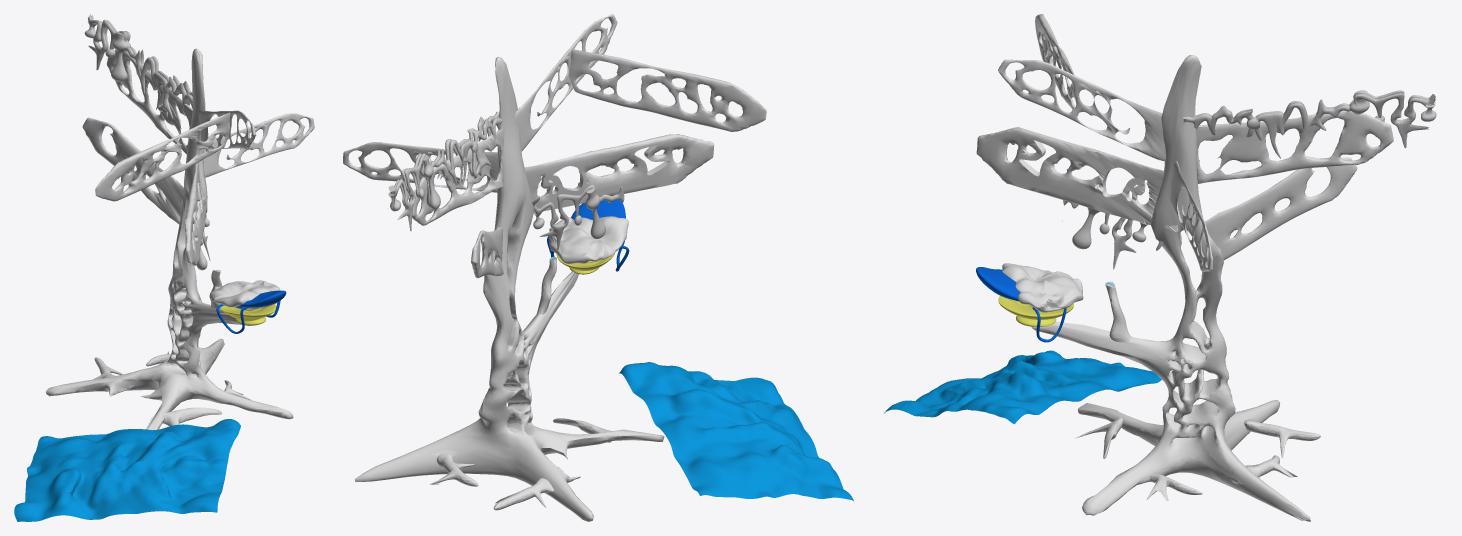
The model's file is nomad-installation-6.glb.
3 renders of one model, left to right at view 1: azimuth 30°, elevation 25°; view 2: azimuth 150°, elevation 25°; view 3: azimuth 270°, elevation 25°, orthographic. The views are drawn at different scales.
Parts seen in each view (by area): view 1: Plane, Cylinder, Box_1, Box_3, Tube_2, Box_4, Box_5, Box_2, Sphere_1, Box, Tube, Lathe (+1 smaller); view 2: Cylinder, Plane, Box_2, Box_1, Box_4, Tube_2, Sphere_1, Box, Box_5, Tube_1, Box_3, Tube (+1 smaller); view 3: Cylinder, Plane, Box_2, Box_4, Box_3, Box, Tube, Sphere_1, Tube_1, Box_5, Box_1, Lathe (+2 smaller).
Part boxes in pixels (x1,y1,x2,y2): Plane: (14, 419, 240, 521); Cylinder: (46, 48, 293, 430); Box_1: (95, 112, 230, 201); Box_3: (82, 117, 183, 224); Tube_2: (84, 14, 192, 119); Box_4: (106, 50, 192, 154); Box_5: (203, 113, 314, 177); Box_2: (184, 162, 207, 265); Sphere_1: (210, 280, 280, 309); Box: (198, 109, 256, 149); Tube: (82, 15, 192, 117); Lathe: (213, 297, 277, 325); Cylinder: (355, 57, 664, 521); Plane: (619, 362, 853, 500); Box_2: (524, 134, 714, 212); Box_1: (569, 48, 766, 131); Box_4: (408, 129, 504, 225); Tube_2: (390, 118, 502, 231); Sphere_1: (549, 216, 628, 263); Box: (515, 14, 617, 151); Box_5: (343, 142, 497, 192); Tube_1: (532, 185, 624, 250); Box_3: (471, 227, 503, 278); Tube: (387, 112, 499, 230); Cylinder: (1031, 55, 1320, 521); Plane: (884, 350, 1161, 424); Box_2: (976, 127, 1178, 231); Box_4: (1195, 110, 1393, 183); Box_3: (1205, 157, 1357, 260); Box: (998, 59, 1165, 160); Tube: (1183, 93, 1436, 158); Sphere_1: (1002, 263, 1083, 312); Tube_1: (1062, 200, 1163, 269); Box_5: (1170, 161, 1212, 271); Box_1: (1035, 14, 1078, 115); Lathe: (994, 289, 1082, 326).
Size of the model in its own units: 5.43 by 5.2 by 5.92.
